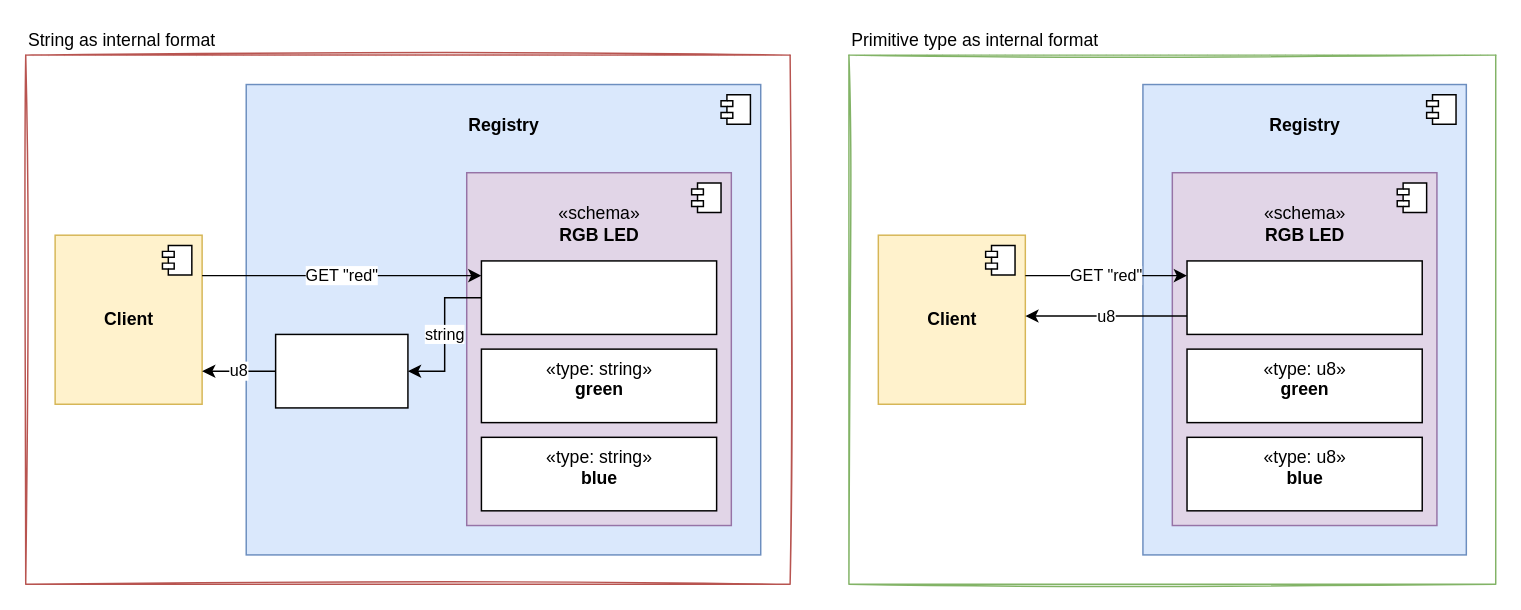
Image size: 1521x610. Some labels were removed from this diagram. The shapes that lost their labels are listed below. From the top down, each one's box as (x1, y1, x2, y2) in pixels, then its label:
(480, 259, 717, 334): «type: string» red
(1186, 259, 1422, 334): «type: u8» red
(274, 333, 408, 408): «converter» string => u8
